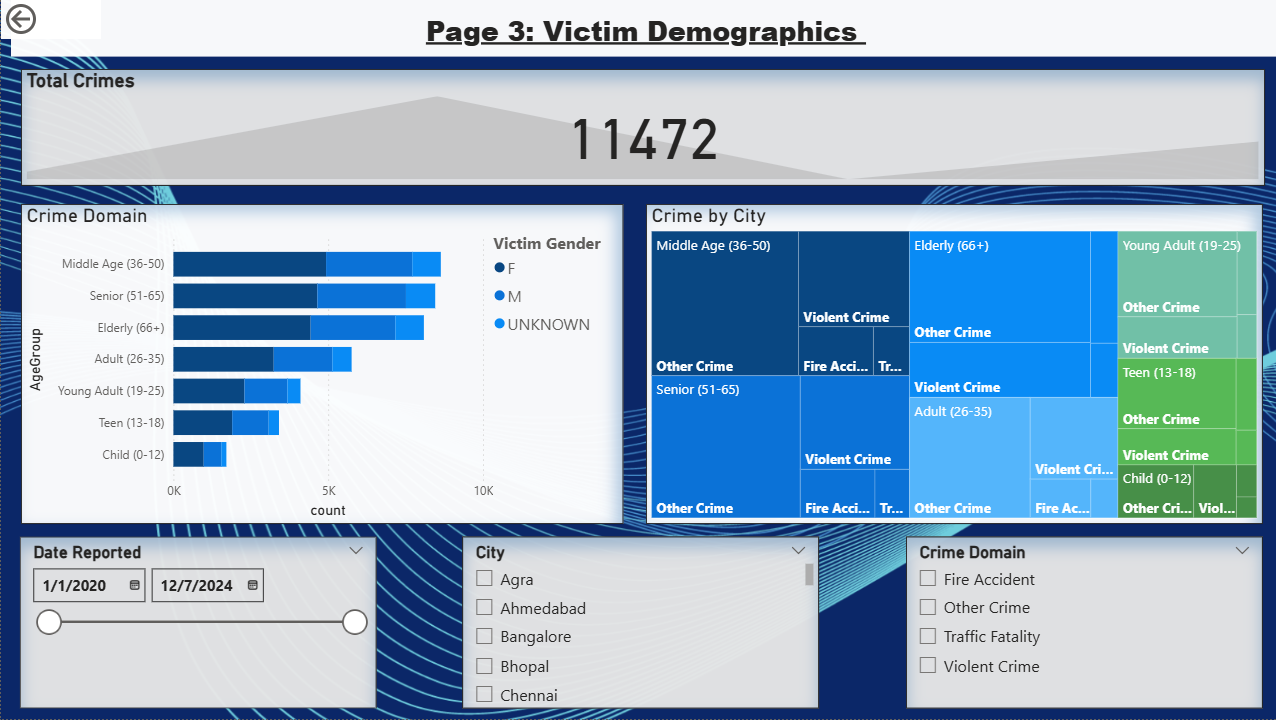

This screenshot's page, from the dashboard's own definition file:
{"tool":"powerbi","page":{"name":"Duplicate of Duplicate of Page 1","canvas":[1280,720],"ordinal":2},"visuals":[{"type":"textbox","box":[9.8,0,1269.9,57.7],"z":0},{"type":"kpi","title":"Total Crimes","fields":{"Indicator":["cleaned_indian_crimes.count"],"TrendLine":["cleaned_indian_crimes.Crime Domain"]},"box":[19.6,69.9,1244.2,116.6],"z":1000},{"type":"barChart","title":"Crime Domain","fields":{"Category":["cleaned_indian_crimes.AgeGroup"],"Y":["cleaned_indian_crimes.count"],"Series":["cleaned_indian_crimes.Victim Gender"]},"box":[19.6,204.9,602.5,320.2],"z":2000},{"type":"treemap","title":"Crime by City ","fields":{"Group":["cleaned_indian_crimes.AgeGroup"],"Details":["cleaned_indian_crimes.Crime Domain"],"Values":["cleaned_indian_crimes.count"]},"box":[645.4,204.9,617.2,320.2],"z":3000},{"type":"actionButton","box":[0,0,100,40],"z":4000},{"type":"slicer","title":"Total Crimes","fields":{"Values":["cleaned_indian_crimes.Date Reported"]},"box":[18.4,537.4,357.1,171.8],"z":5000},{"type":"slicer","title":"Total Crimes","fields":{"Values":["cleaned_indian_crimes.City"]},"box":[461.4,537.4,357.1,171.8],"z":6000},{"type":"slicer","title":"Total Crimes","fields":{"Values":["cleaned_indian_crimes.Crime Domain"]},"box":[905.5,537.4,357.1,171.8],"z":7000}]}

Visuals, with their boxes in screenshot pixels (x1, y1, x2, y2), scaled from the page's 1280x720 canvas onto the 1276x720 screenshot:
textbox: (x1=10, y1=0, x2=1275, y2=58)
"Total Crimes" kpi: (x1=20, y1=70, x2=1260, y2=186)
"Crime Domain" barChart: (x1=20, y1=205, x2=620, y2=525)
"Crime by City " treemap: (x1=643, y1=205, x2=1259, y2=525)
actionButton: (x1=0, y1=0, x2=100, y2=40)
"Total Crimes" slicer: (x1=18, y1=537, x2=374, y2=709)
"Total Crimes" slicer: (x1=460, y1=537, x2=816, y2=709)
"Total Crimes" slicer: (x1=903, y1=537, x2=1259, y2=709)
